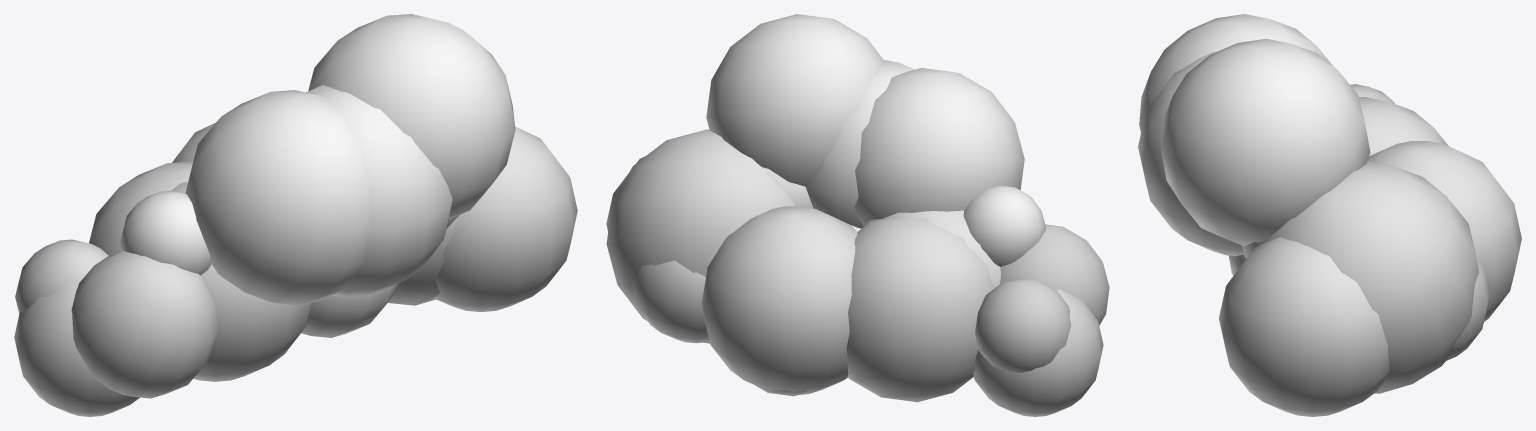
The model's file is dr_cloud.fbx.
3 views of the same model, side by side, from view 1: azimuth 30°, elevation 25°; view 2: azimuth 150°, elevation 25°; view 3: azimuth 270°, elevation 25° (orthographic). The views are drawn at different scales.
Visible parts, largest first — view 1: dr_cloud_01, dr_cloud_02; view 2: dr_cloud_01, dr_cloud_02; view 3: dr_cloud_01, dr_cloud_02.
Boxes of the visible parts, <box> form: dr_cloud_01: <box>15,14,515,398</box>; dr_cloud_02: <box>14,85,577,416</box>; dr_cloud_01: <box>606,14,1109,402</box>; dr_cloud_02: <box>606,60,1103,416</box>; dr_cloud_01: <box>1139,14,1479,393</box>; dr_cloud_02: <box>1138,51,1521,416</box>.
Bounding box in the file's own units: 5.96 × 3.61 × 3.81.
